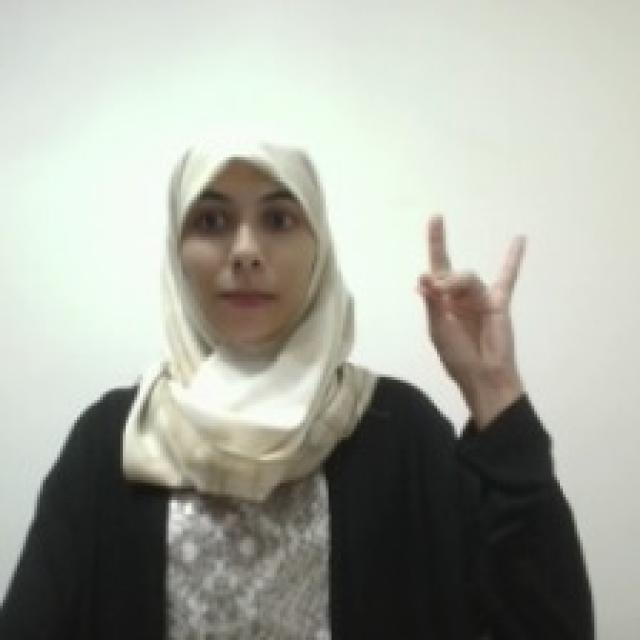Dog: (410, 204, 530, 376)
